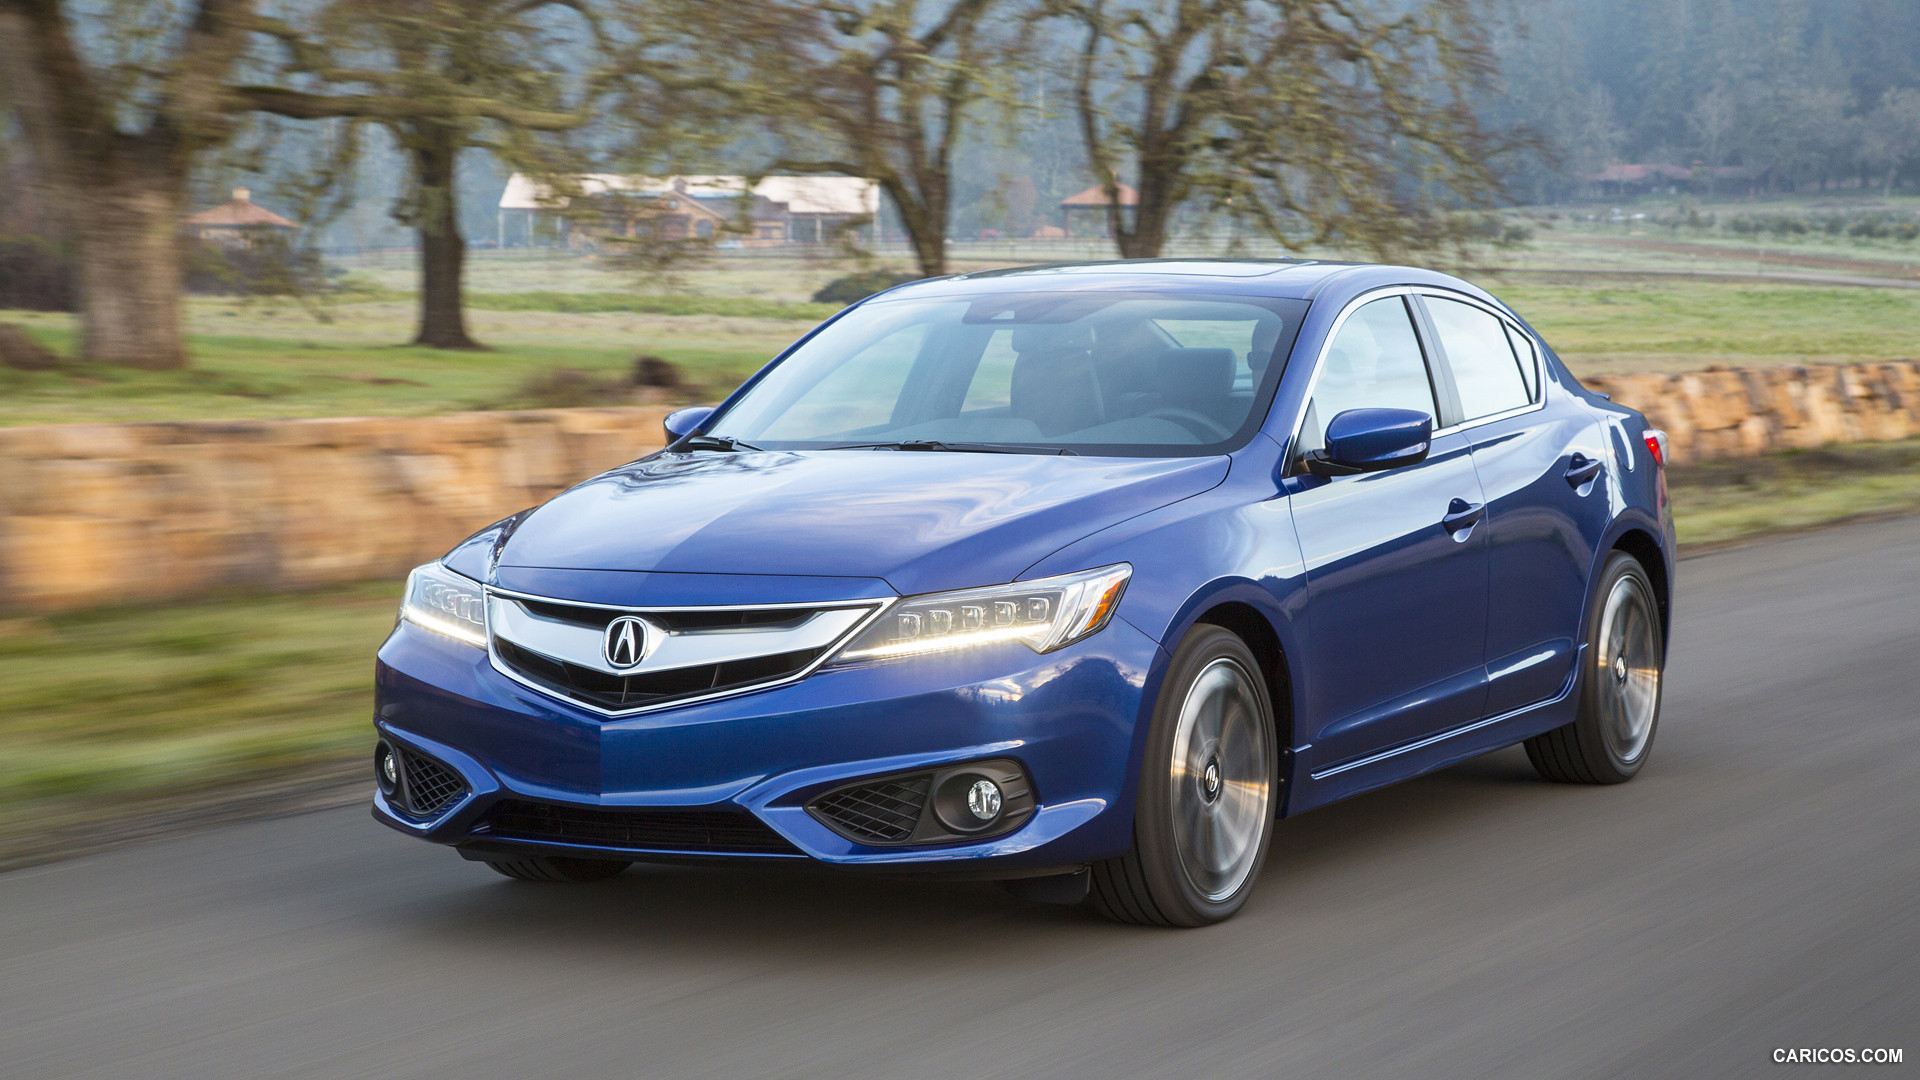Fog Lamp & Scope: (804, 761, 1039, 852)
Front: (369, 462, 1226, 874)
Front Bumper: (361, 717, 1130, 864)
Grill: (479, 607, 837, 709)
Headlight: (824, 559, 1135, 670)
